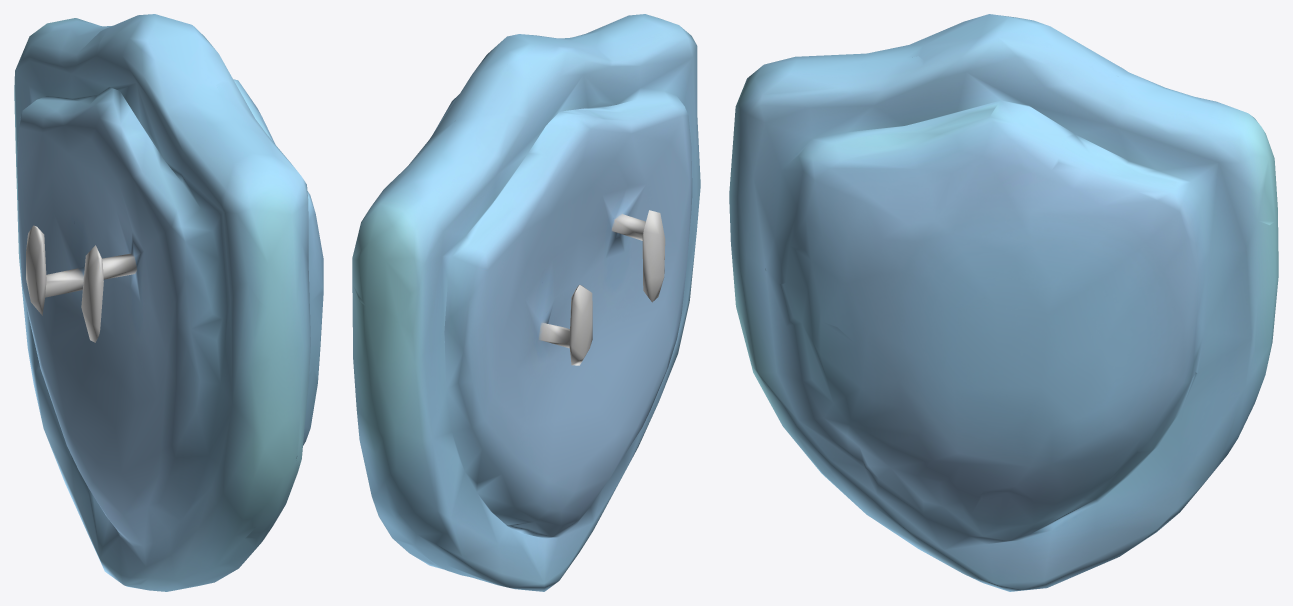
Rendered from shield.glb.
The picture shows the model from 3 angles, left to right: view 1: azimuth 30°, elevation 25°; view 2: azimuth 150°, elevation 25°; view 3: azimuth 270°, elevation 25°; orthographic projection. The views are drawn at different scales.
Visible parts, largest first — view 1: tripo_node_be0fc76f-a2b3-4931-9931-e785943003af; view 2: tripo_node_be0fc76f-a2b3-4931-9931-e785943003af; view 3: tripo_node_be0fc76f-a2b3-4931-9931-e785943003af.
Part boxes in pixels (<box>): tripo_node_be0fc76f-a2b3-4931-9931-e785943003af: <box>14,14,323,591</box>; tripo_node_be0fc76f-a2b3-4931-9931-e785943003af: <box>352,14,700,591</box>; tripo_node_be0fc76f-a2b3-4931-9931-e785943003af: <box>729,14,1278,591</box>.
Bounding box in the file's own units: 0.4012 × 1 × 0.8982.
1 material, 1 textured.
